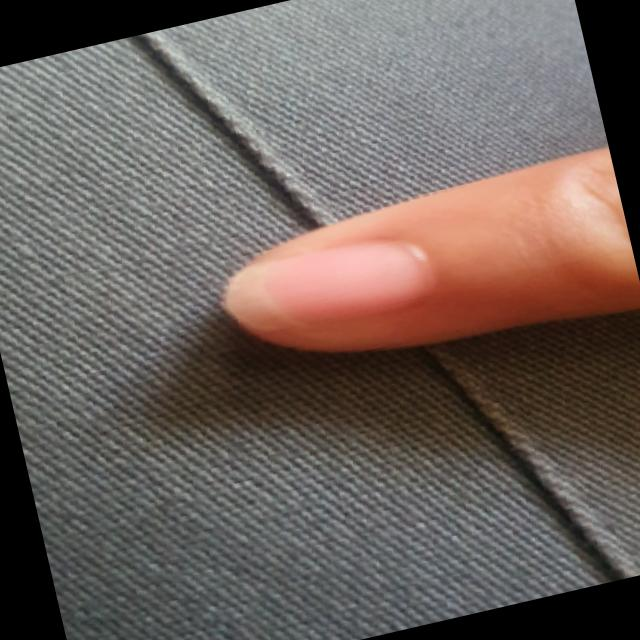Nail: (223, 240, 432, 330)
